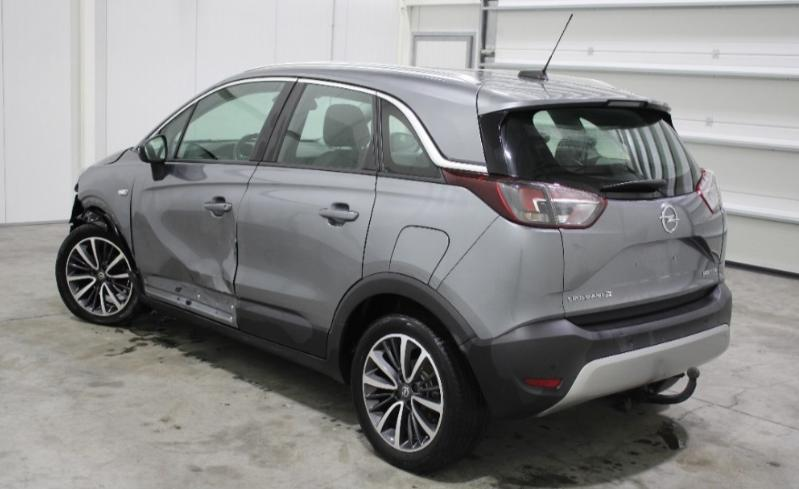Back-bumper: (459, 282, 732, 423)
Back-door: (235, 78, 376, 360)
Back-wheel: (351, 307, 491, 477)
Back-window: (276, 84, 374, 170), (376, 97, 446, 184)
Back-windshield: (478, 100, 701, 201)
Fender: (74, 150, 145, 296)
Front-door: (131, 77, 298, 330)
Front-wheel: (55, 222, 141, 325)
Front-window: (177, 82, 286, 160), (161, 108, 189, 160)
Hood: (91, 146, 134, 166)
Mirror: (139, 135, 168, 181)
Quarter-panel: (334, 176, 565, 345)
Rocker-panel: (139, 291, 347, 385)
Roof: (243, 60, 630, 172)
Tail-light: (442, 168, 559, 230), (543, 182, 606, 229), (696, 167, 723, 213)
Trunk: (559, 191, 723, 317), (478, 79, 672, 176)
